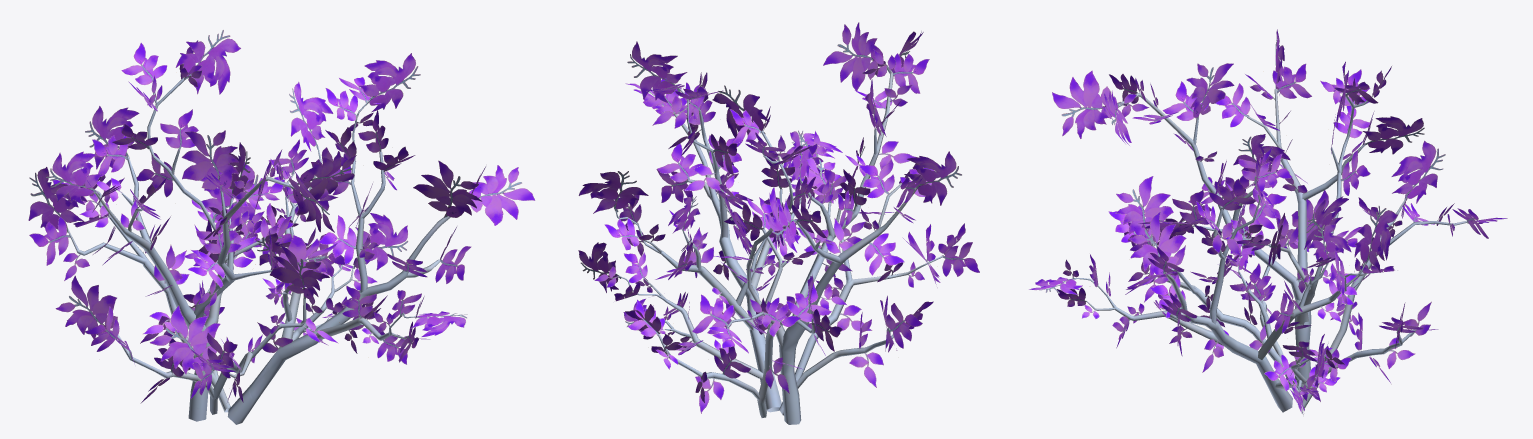
3 views of the same model, side by side, from view 1: azimuth 30°, elevation 25°; view 2: azimuth 150°, elevation 25°; view 3: azimuth 270°, elevation 25° (orthographic). The views are drawn at different scales.
Parts seen in each view (by area): view 1: SM_Cadavaberry_Bush_Empty_LOD0; view 2: SM_Cadavaberry_Bush_Empty_LOD0; view 3: SM_Cadavaberry_Bush_Empty_LOD0.
Boxes of the visible parts, x1=… form: SM_Cadavaberry_Bush_Empty_LOD0: x1=28, y1=30, x2=535, y2=424; SM_Cadavaberry_Bush_Empty_LOD0: x1=578, y1=22, x2=979, y2=424; SM_Cadavaberry_Bush_Empty_LOD0: x1=1029, y1=29, x2=1507, y2=416.
Size of the model in its own units: 1.57 by 1.34 by 1.69.
Materials: 1 (1 with a texture image).
